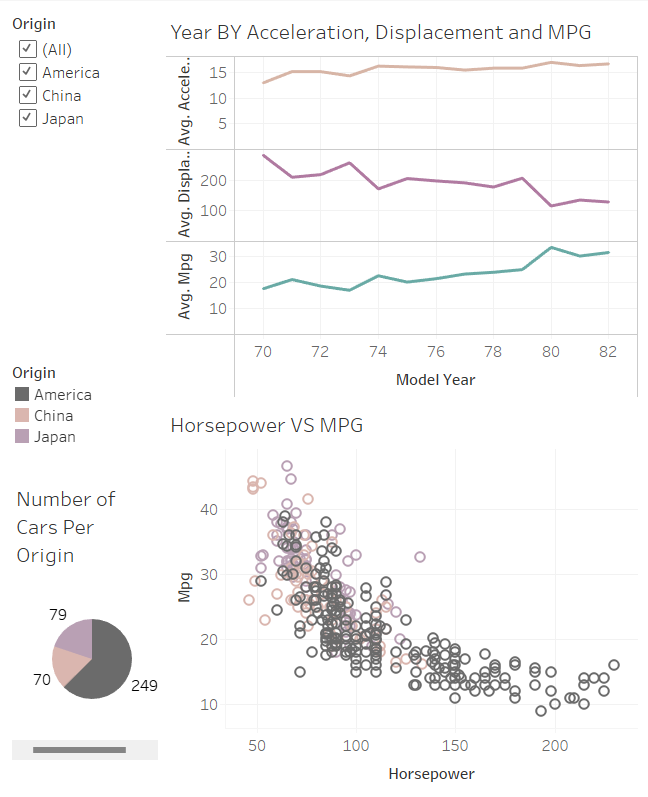

The dashboard page shown, as its layout file describes it:
{"tool":"tableau","page":{"name":"Dashboard 1","canvas":[650,860],"ordinal":0},"visuals":[{"type":"filter","title":"Sheet 2","param":"[federated.0miajxx1ueh3lk1asuxa713fbd2i].[none:origin:nk]","box":[8,8.6,154,374.2]},{"type":"worksheet","title":"Sheet 3","mark":"Automatic","rows":["acceleration","displacement","mpg"],"cols":["model year"],"box":[162,8.6,480,421.4]},{"type":"legend","title":"Sheet 1","param":"[federated.0miajxx1ueh3lk1asuxa713fbd2i].[none:origin:nk]","box":[8,382.8,154,126.5]},{"type":"worksheet","title":"Sheet 2","mark":"Automatic","rows":["mpg"],"cols":["horsepower"],"box":[162,430,480,421.4]},{"type":"worksheet","title":"Sheet 1","mark":"Pie","box":[8,509.4,154,342.1]}]}

Visuals, with their boxes on the page's 650x860 design canvas (x1, y1, x2, y2). These are canvas units, not pixel positions in the 648x797 screenshot, which may show the page scaled, cropped or inside an application window:
"Sheet 2" filter: box(8, 9, 162, 383)
"Sheet 3" worksheet: box(162, 9, 642, 430)
"Sheet 1" legend: box(8, 383, 162, 509)
"Sheet 2" worksheet: box(162, 430, 642, 851)
"Sheet 1" worksheet (Pie marks): box(8, 509, 162, 852)
